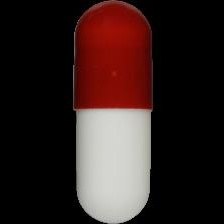50436-6524: (0, 0, 224, 224)
